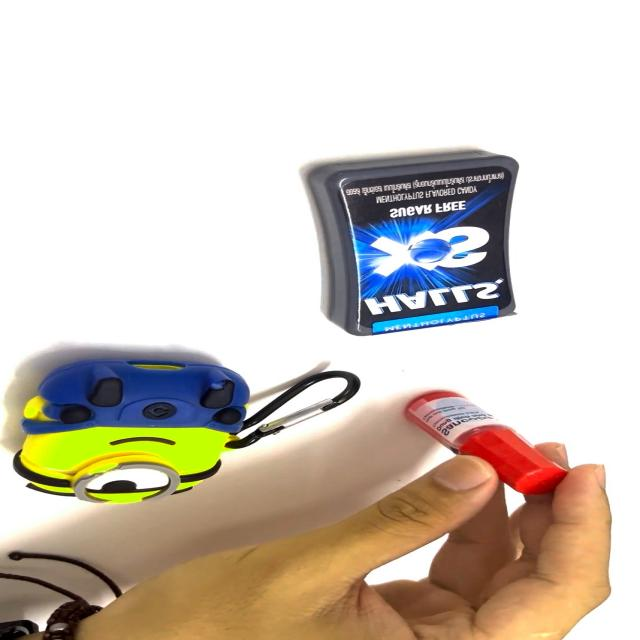airpod minion: (3, 352, 370, 512)
mint hall: (301, 136, 542, 342)
sancoba eyes: (398, 375, 565, 507)
